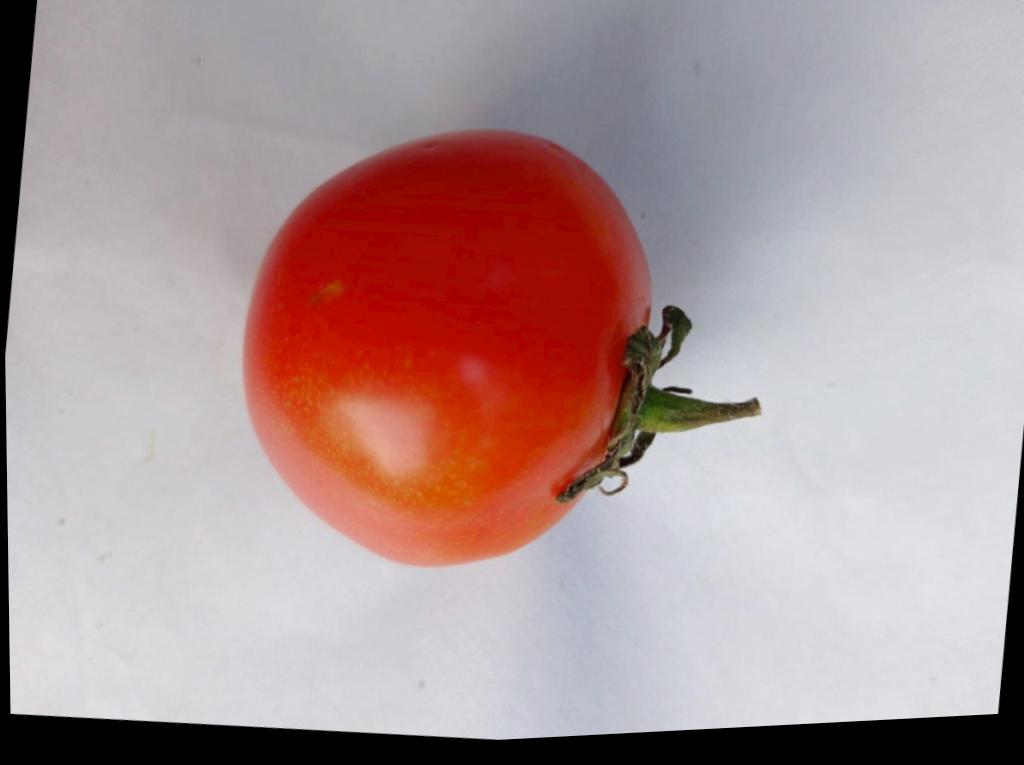tomato: (243, 130, 759, 564)
